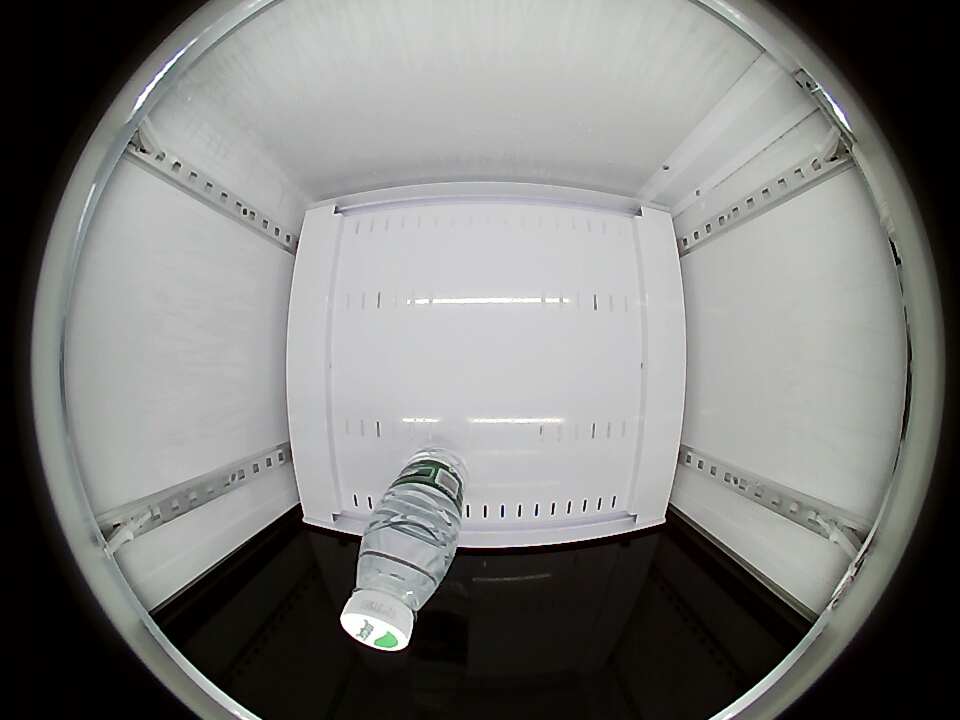yibao: (341, 529, 451, 651)
